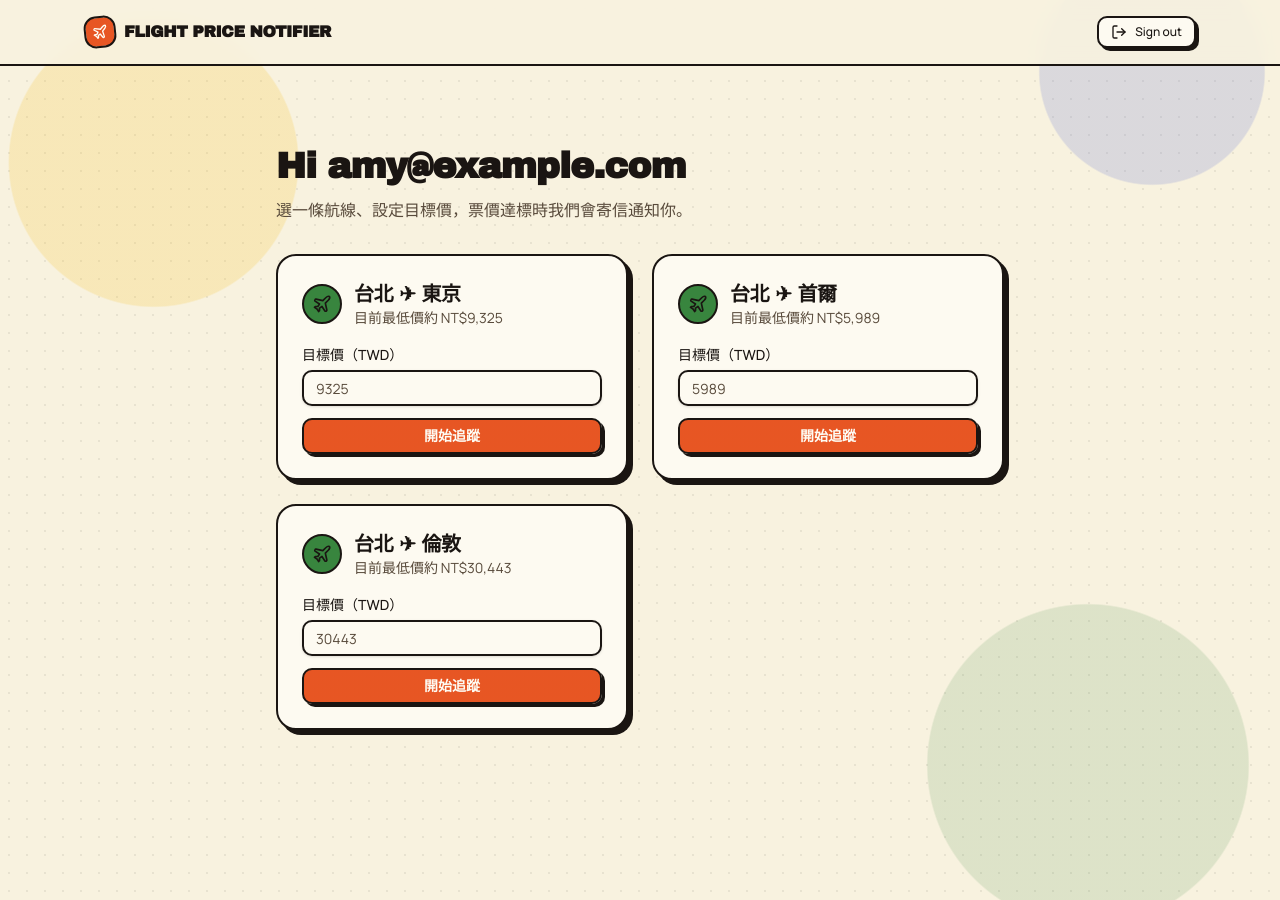
Dashboard plan cards › blocks a missing target before sending
Click the button "開始追蹤" below "NT$9,325" at point(452, 436), box [302,418,602,454]
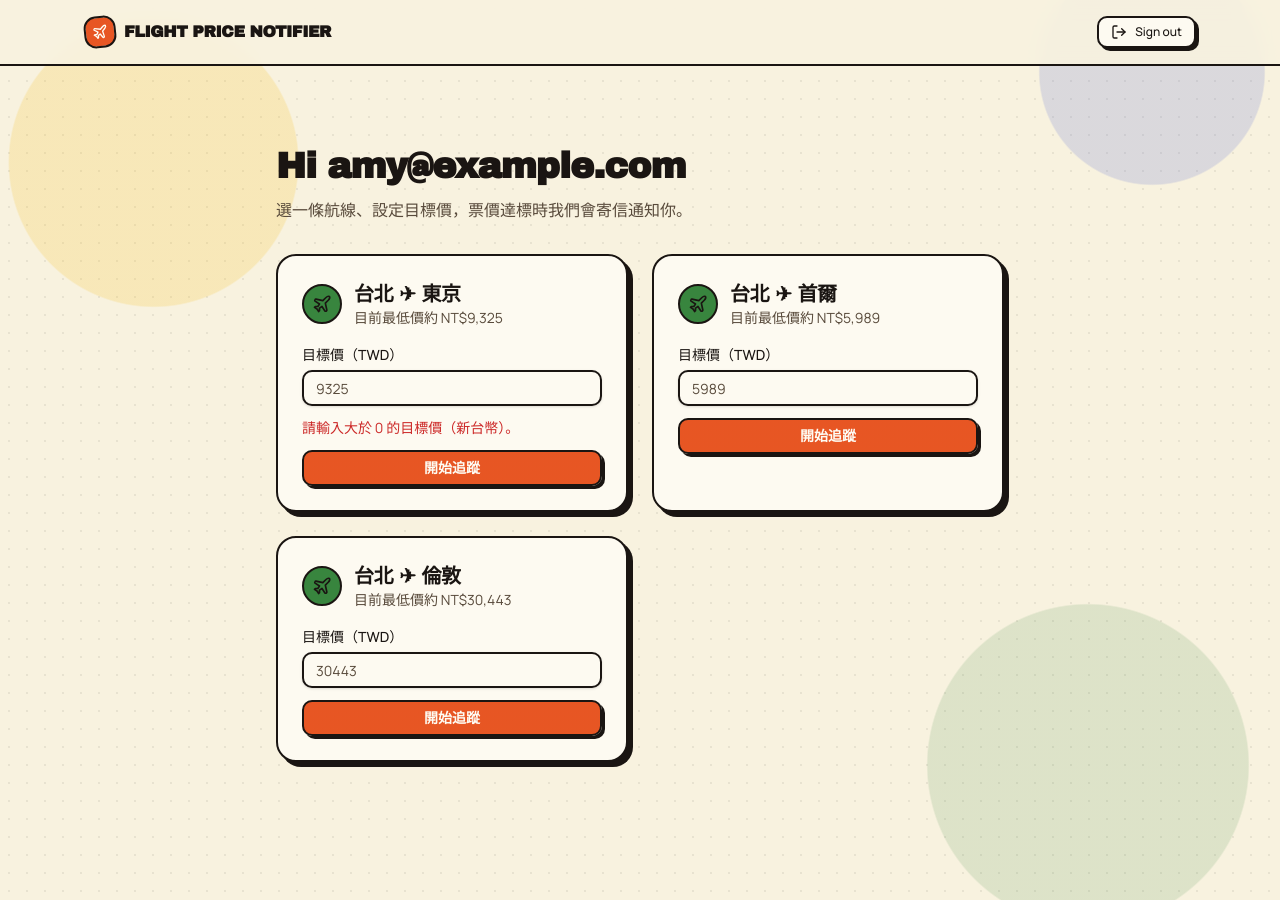
Result: the message shows "大於 0" at [302,418,519,437]
